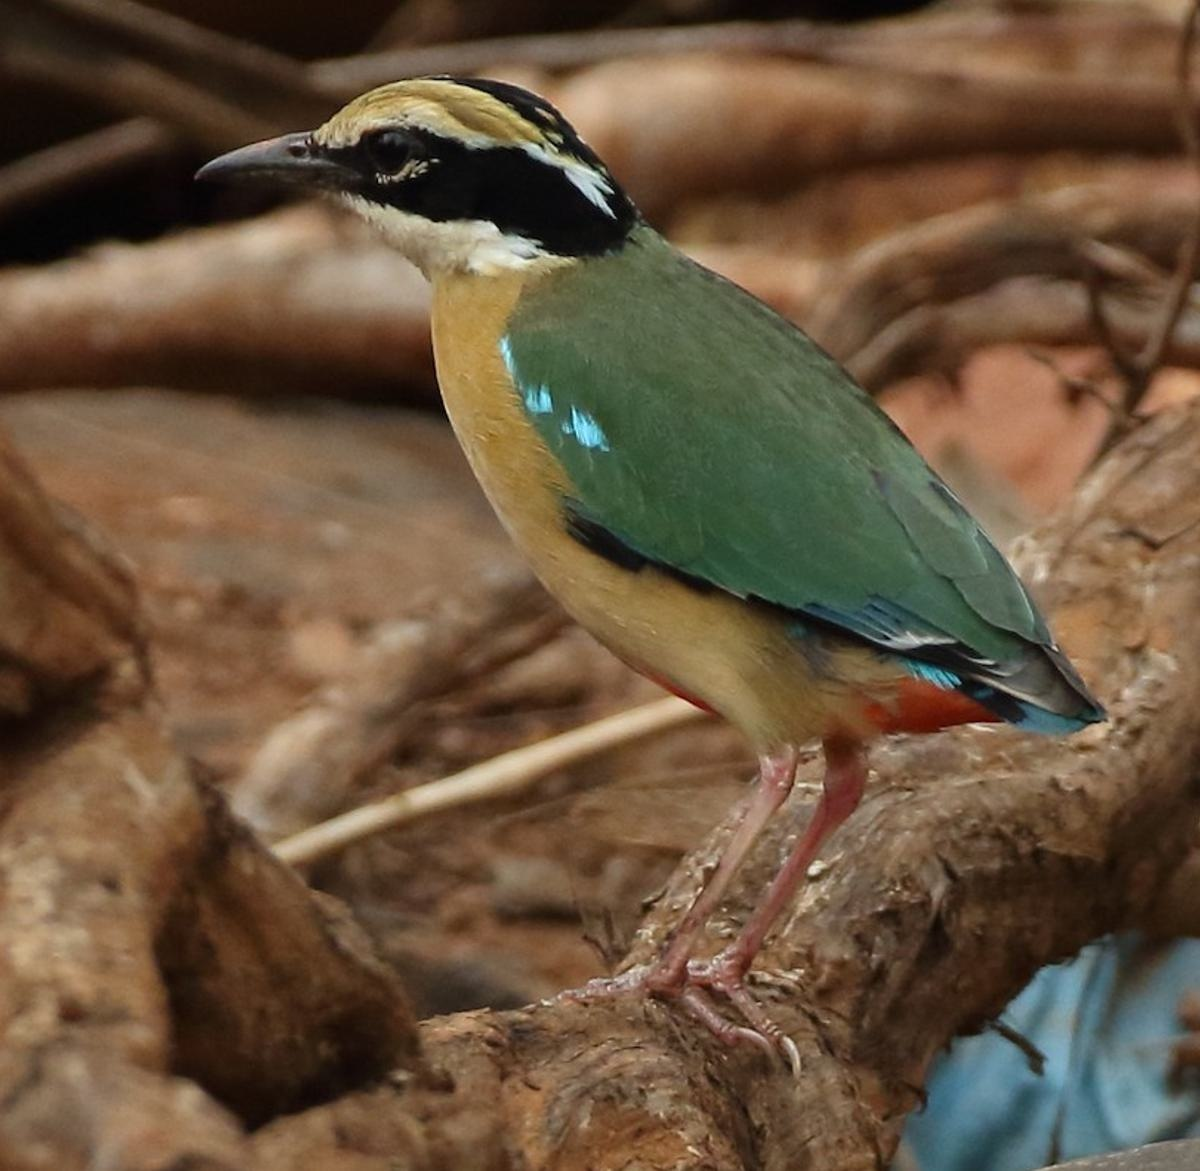pitta: (240, 13, 1045, 1053)
